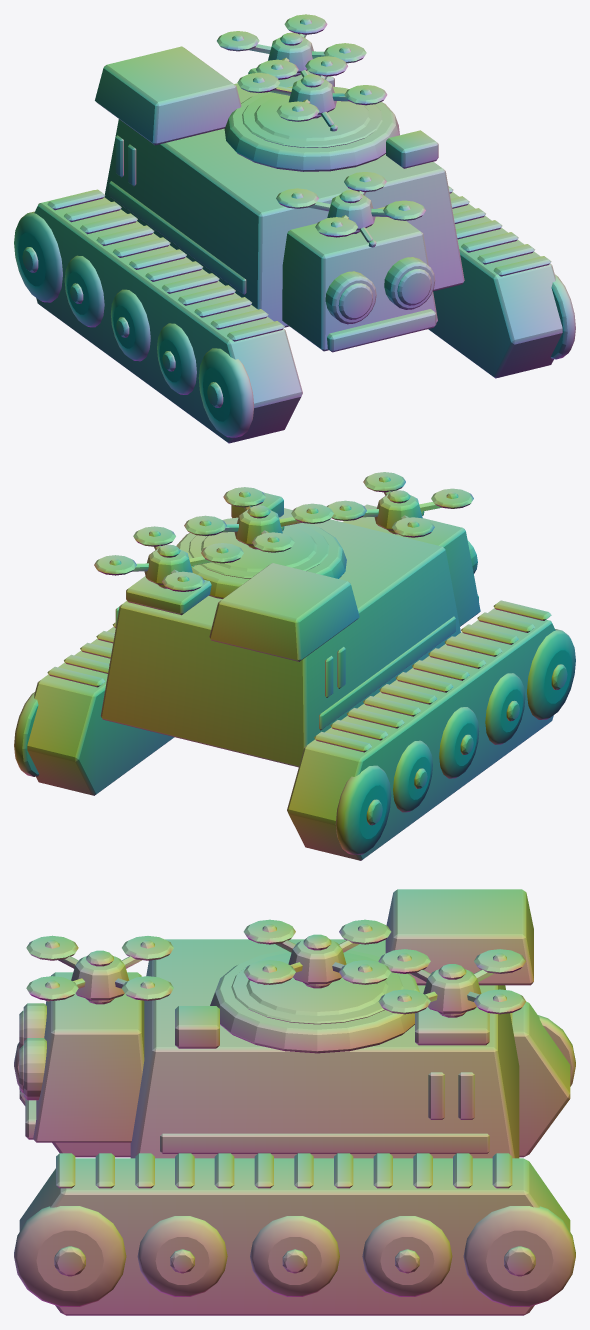
File: mender_rig.glb
3 renders of one model, top to bottom at view 1: azimuth 30°, elevation 25°; view 2: azimuth 150°, elevation 25°; view 3: azimuth 270°, elevation 25°, orthographic. The views are drawn at different scales.
Parts seen in each view (by area): view 1: body, drone_0, drone_2, drone_1, wheel_9, wheel_5, wheel_7, wheel_6, wheel_8, wheel_4; view 2: body, drone_1, drone_0, drone_2, wheel_5, wheel_9, wheel_8, wheel_7, wheel_6, wheel_0; view 3: body, wheel_0, wheel_4, drone_2, drone_0, drone_1, wheel_1, wheel_3, wheel_2, wheel_5.
Boxes of the visible parts, x1,y1,x2,y2 form: body: [34, 46, 562, 443]; drone_0: [237, 56, 387, 131]; drone_2: [276, 172, 425, 247]; drone_1: [217, 14, 366, 79]; wheel_9: [198, 348, 254, 437]; wheel_5: [14, 211, 62, 302]; wheel_7: [111, 289, 150, 361]; wheel_6: [64, 255, 104, 327]; wheel_8: [157, 323, 196, 394]; wheel_4: [551, 274, 575, 359]; body: [27, 492, 555, 860]; drone_1: [94, 526, 243, 591]; drone_0: [184, 487, 333, 552]; drone_2: [326, 472, 473, 537]; wheel_5: [335, 765, 391, 855]; wheel_9: [527, 629, 575, 719]; wheel_8: [485, 673, 525, 744]; wheel_7: [439, 707, 479, 778]; wheel_6: [393, 740, 432, 812]; wheel_0: [14, 692, 39, 776]; body: [19, 889, 570, 1315]; wheel_0: [463, 1206, 575, 1306]; wheel_4: [14, 1206, 126, 1306]; drone_2: [26, 935, 173, 1004]; drone_0: [243, 919, 391, 988]; drone_1: [378, 949, 525, 1017]; wheel_1: [362, 1216, 452, 1296]; wheel_3: [137, 1216, 227, 1296]; wheel_2: [250, 1216, 339, 1296]; wheel_5: [538, 1015, 575, 1086].
Size of the model in its own units: 6.56 by 4.38 by 7.5.
